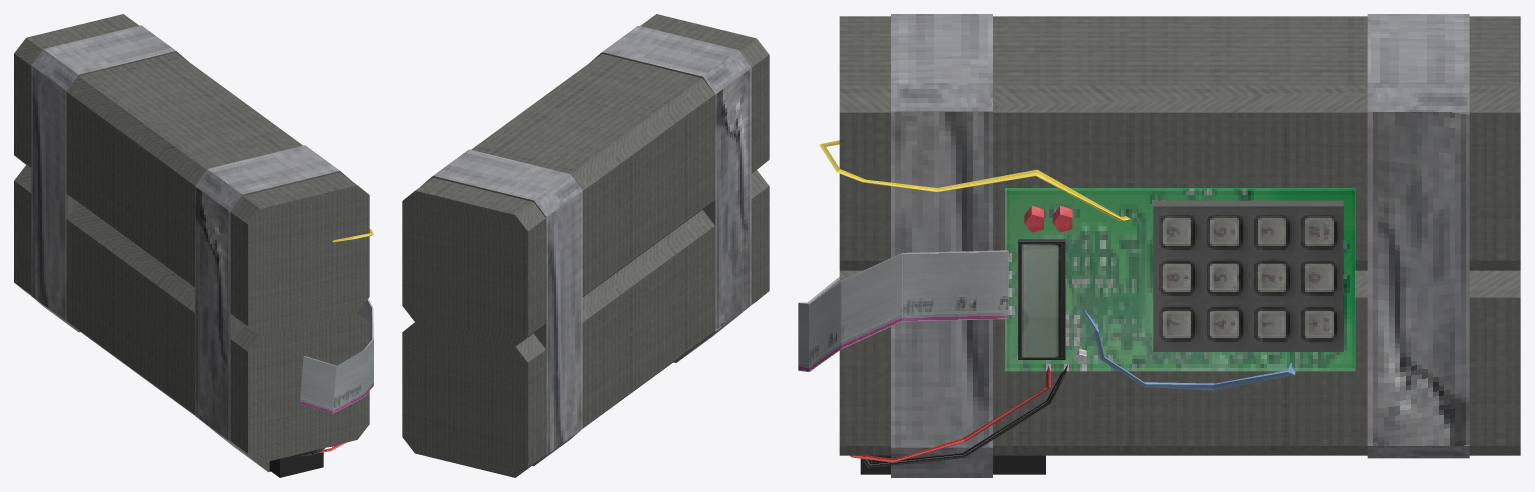
Rendered from sticky_bomb.glb.
3 views of the same model, side by side, from view 1: azimuth 30°, elevation 25°; view 2: azimuth 150°, elevation 25°; view 3: azimuth 270°, elevation 25° (orthographic). The views are drawn at different scales.
Parts seen in each view (by area): view 1: sticky_bomb; view 2: sticky_bomb; view 3: sticky_bomb.
Part boxes in pixels (x1=…): sticky_bomb: x1=14, y1=14, x2=373, y2=477; sticky_bomb: x1=402, y1=14, x2=769, y2=477; sticky_bomb: x1=798, y1=14, x2=1520, y2=477.
Size of the model in its own units: 0.0534 by 0.1072 by 0.17.
8 materials, 8 textured.
